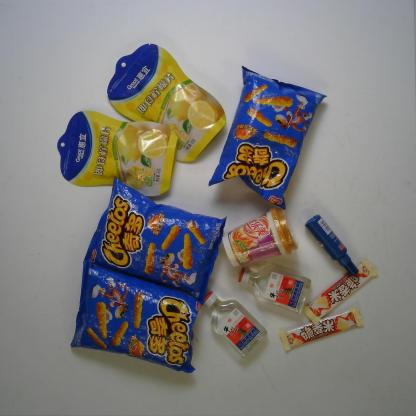Alcohol: (196, 287, 268, 362), (235, 257, 315, 316)
Chocolate: (275, 304, 374, 356), (298, 261, 380, 323)
Dried Fruit: (105, 40, 228, 166), (56, 107, 184, 200)
Instant Drink: (216, 200, 294, 272)
Personal Hygiene: (298, 206, 360, 278)
Puffed Food: (76, 180, 228, 298), (209, 67, 321, 215), (63, 262, 201, 380)
